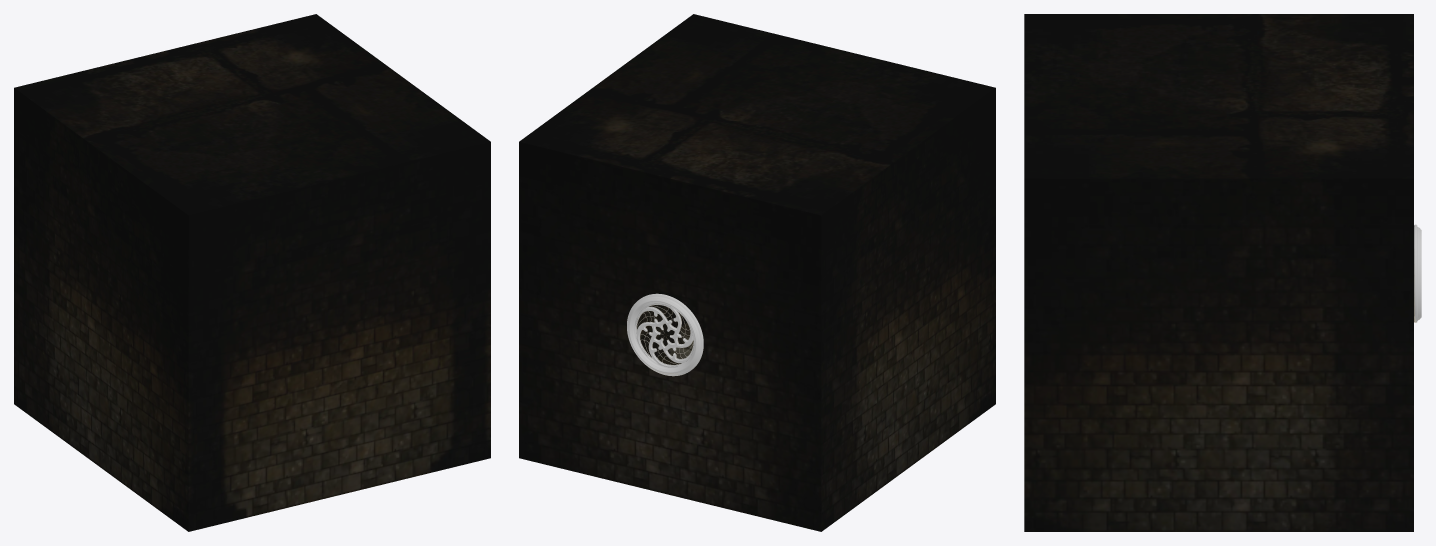
File: godray.glb
The picture shows the model from 3 angles, left to right: view 1: azimuth 30°, elevation 25°; view 2: azimuth 150°, elevation 25°; view 3: azimuth 270°, elevation 25°; orthographic projection. The views are drawn at different scales.
Visible parts, largest first — view 1: Wall_Baked; view 2: Wall_Baked, Window_Baked; view 3: Wall_Baked, Window_Baked.
Boxes of the visible parts, bbox=[...] form: Wall_Baked: bbox=[14, 14, 490, 531]; Wall_Baked: bbox=[519, 14, 995, 531]; Window_Baked: bbox=[627, 293, 703, 376]; Wall_Baked: bbox=[1024, 14, 1413, 531]; Window_Baked: bbox=[1414, 224, 1421, 322].
Bounding box in the file's own units: 20.05 × 20.08 × 20.44.
Materials: 2 (2 with a texture image).
